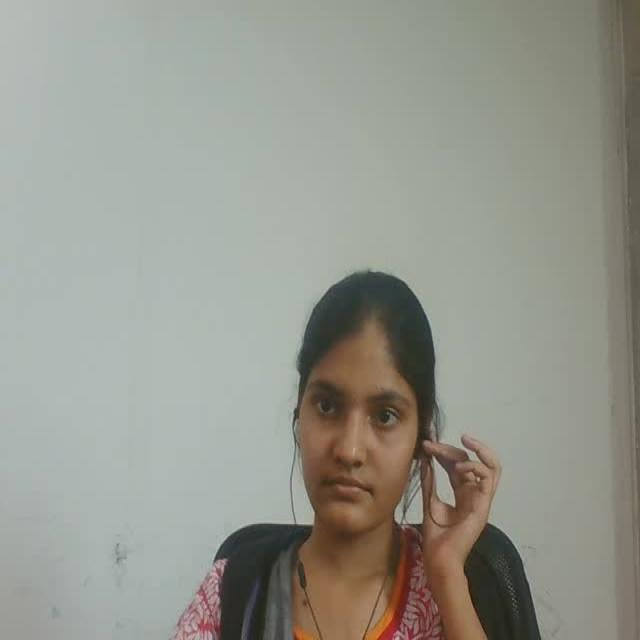Engaged: (274, 266, 461, 563)
